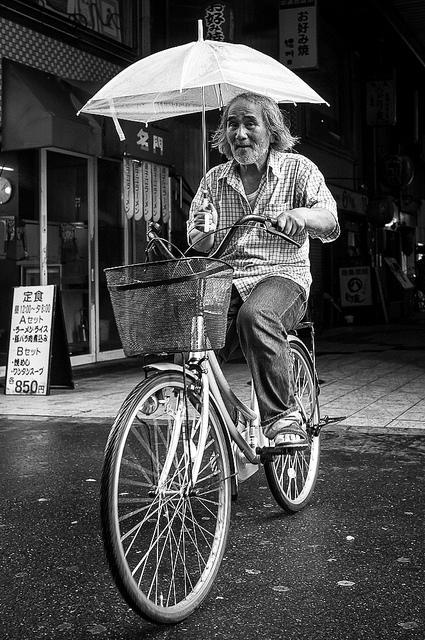bicycle: (101, 215, 342, 618)
